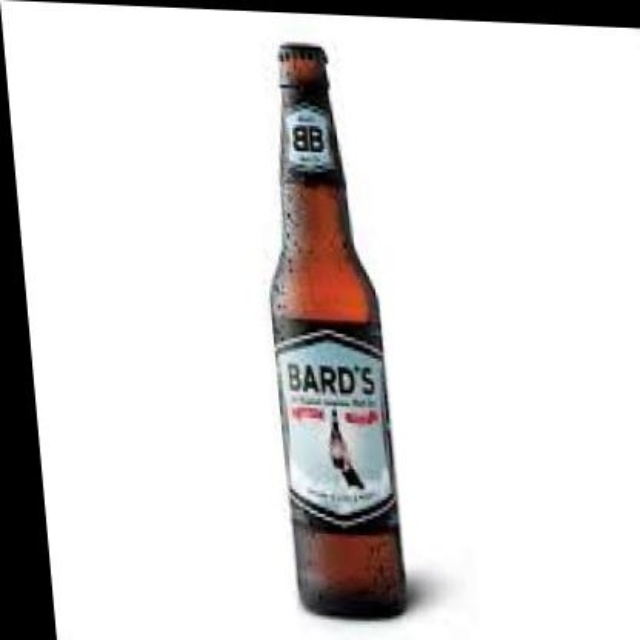trash: (271, 45, 405, 615)
